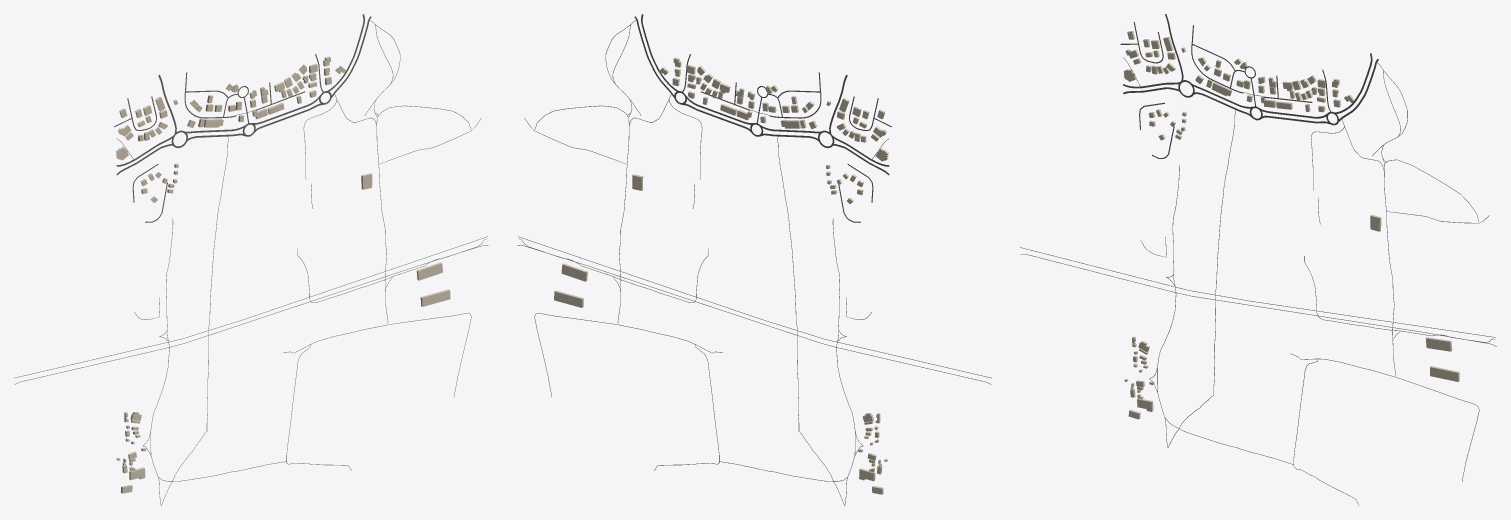
The model's file is historic-palestine-06_19_3477_3137.glb.
3 renders of one model, left to right at view 1: azimuth 30°, elevation 25°; view 2: azimuth 150°, elevation 25°; view 3: azimuth 330°, elevation 25°, orthographic.
Parts seen in each view (by area): view 1: Road .034; view 2: Road .034; view 3: Road .034.
Boxes of the visible parts, x1,y1,x2,y2 form: Road .034: [14, 236, 487, 378]; Road .034: [518, 236, 991, 378]; Road .034: [1020, 247, 1495, 337].
Bounding box in the file's own units: 1422 × 1299 × 8.7.
